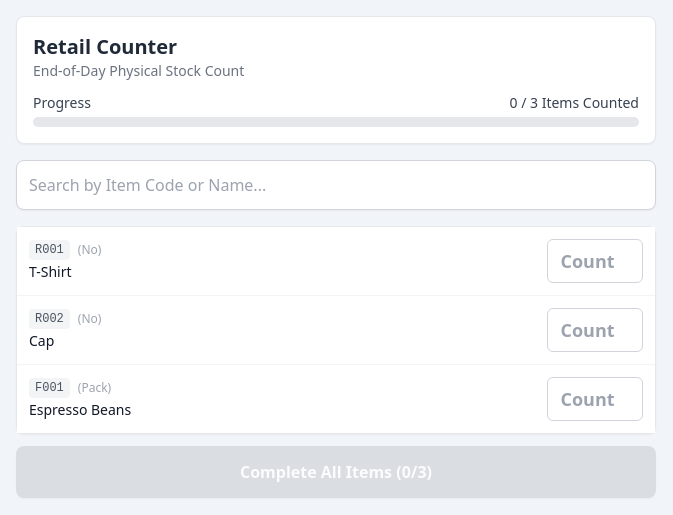
PhysicalStockEntry Component › Zero Entry Test: Typing 0 counts as a valid physical entry and updates progress
Type "0" into the number field with id "stock-input-0" at (595, 261), box [547,239,643,283]
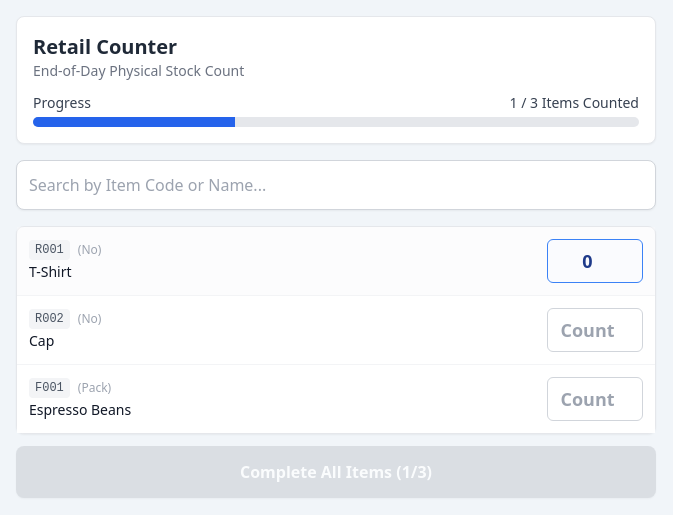
Check: the text "1 / 3 Items Counted" is shown, box [510,93,639,113]
